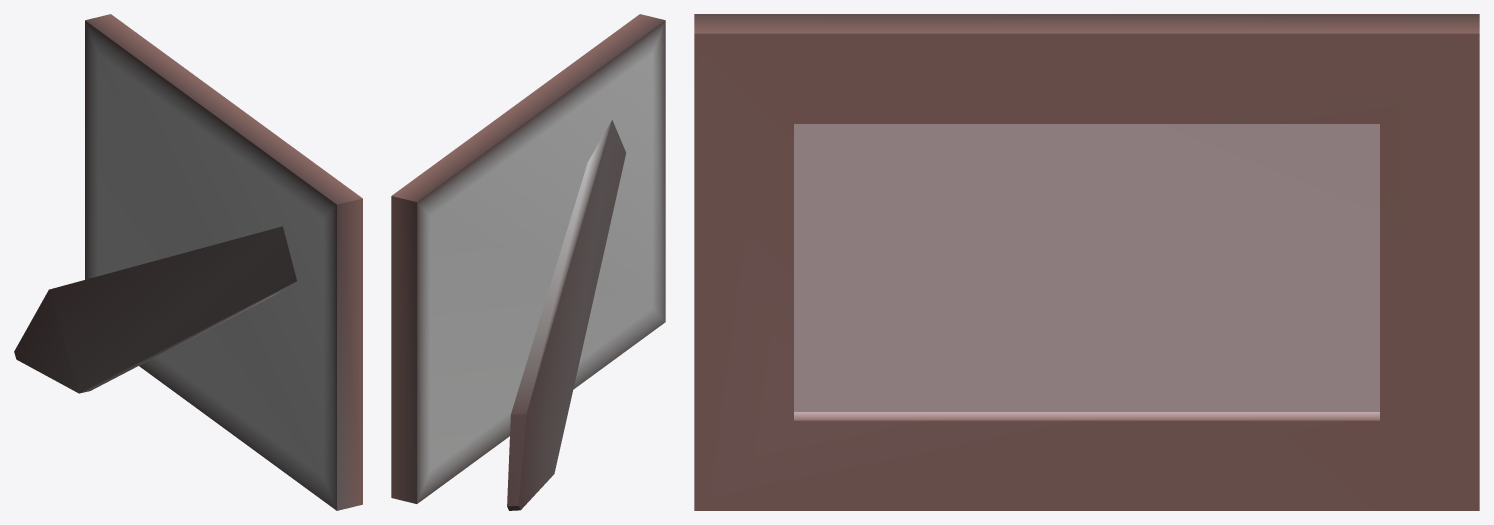
Rendered from photo_frame.glb.
The picture shows the model from 3 angles, left to right: view 1: azimuth 30°, elevation 25°; view 2: azimuth 150°, elevation 25°; view 3: azimuth 270°, elevation 25°; orthographic projection. The views are drawn at different scales.
Visible parts, largest first — view 1: PhotoFrame; view 2: PhotoFrame; view 3: PhotoFrame.
Part boxes in pixels (x1,y1,x2,y2): PhotoFrame: (14,14,362,510); PhotoFrame: (391,14,665,510); PhotoFrame: (694,14,1479,510).
Size of the model in its own units: 1.73 by 4.54 by 6.71.
